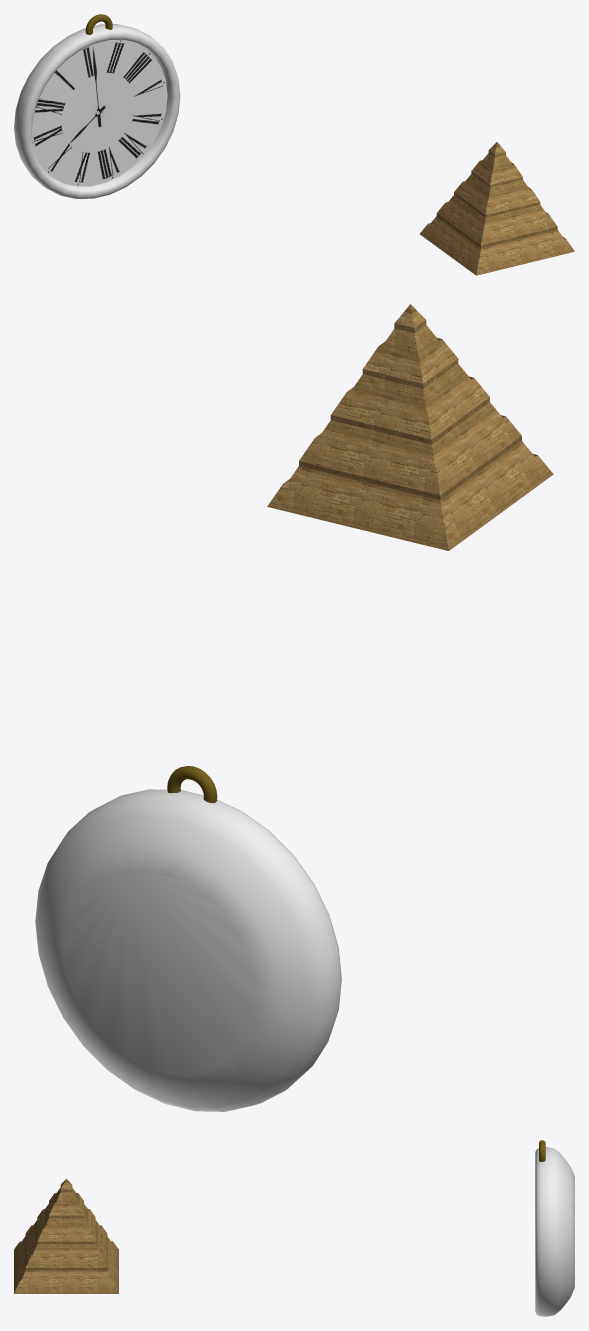
Rendered from 06 pocket watch.fbx.
3 renders of one model, top to bottom at view 1: azimuth 30°, elevation 25°; view 2: azimuth 150°, elevation 25°; view 3: azimuth 270°, elevation 25°, orthographic. The views are drawn at different scales.
Visible parts, largest first — view 1: clock, Pyramid001, Cylinder001; view 2: Cylinder001, Pyramid001; view 3: Pyramid001, Cylinder001.
Boxes of the visible parts, left/top/right/bottom form: clock: left=31, top=39, right=167, bottom=186; Pyramid001: left=420, top=142, right=574, bottom=275; Cylinder001: left=14, top=24, right=180, bottom=198; Cylinder001: left=35, top=789, right=341, bottom=1111; Pyramid001: left=267, top=304, right=553, bottom=550; Pyramid001: left=14, top=1178, right=118, bottom=1293; Cylinder001: left=535, top=1147, right=574, bottom=1316.
Size of the model in its own units: 200 by 391 by 149.
3 materials, 2 textured.
